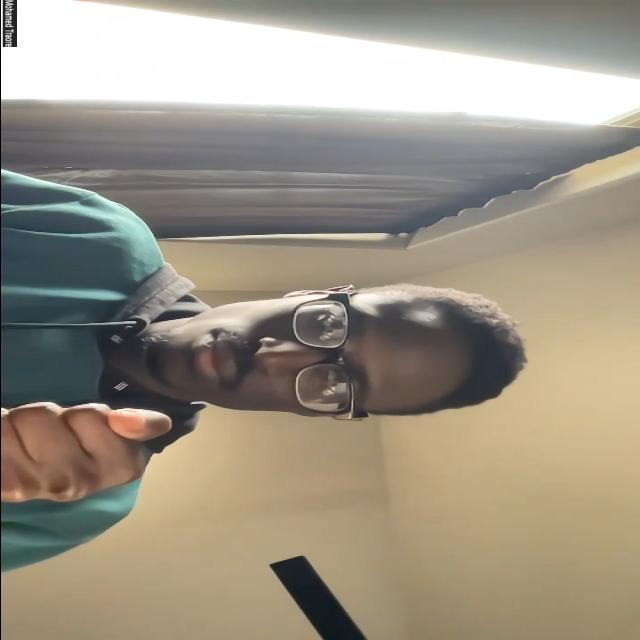Rock: (0, 400, 172, 502)
